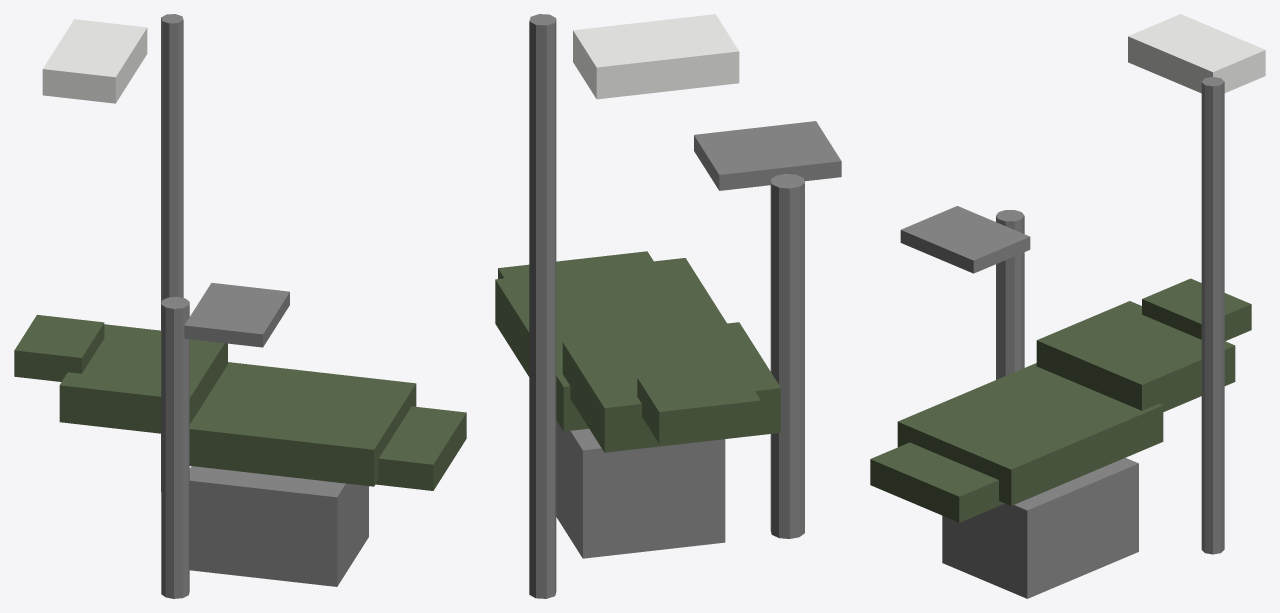
3 views of the same model, side by side, from view 1: azimuth 30°, elevation 25°; view 2: azimuth 150°, elevation 25°; view 3: azimuth 270°, elevation 25° (orthographic). The views are drawn at different scales.
Visible parts, largest first — view 1: sillon_ortho_7; view 2: sillon_ortho_7; view 3: sillon_ortho_7.
Part boxes in pixels (x1=…): sillon_ortho_7: x1=14, y1=14, x2=466, y2=598; sillon_ortho_7: x1=495, y1=14, x2=841, y2=598; sillon_ortho_7: x1=870, y1=14, x2=1265, y2=598.
Size of the model in its own units: 1.33 by 1.38 by 1.8.
